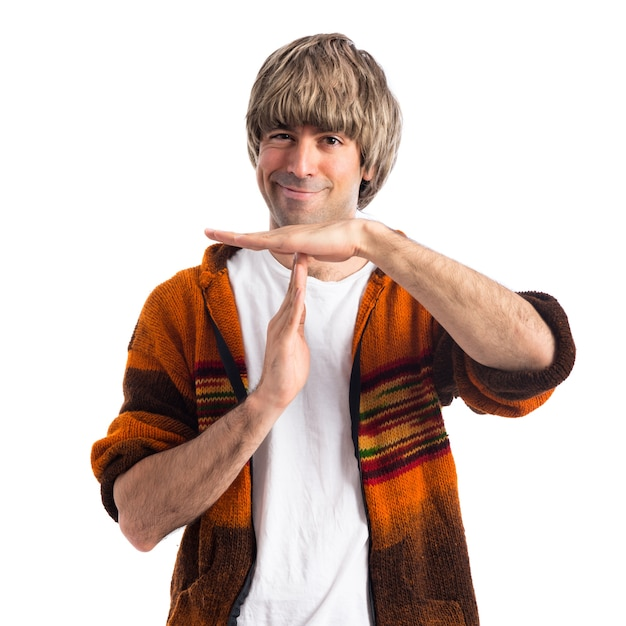teen: (238, 17, 409, 246)
